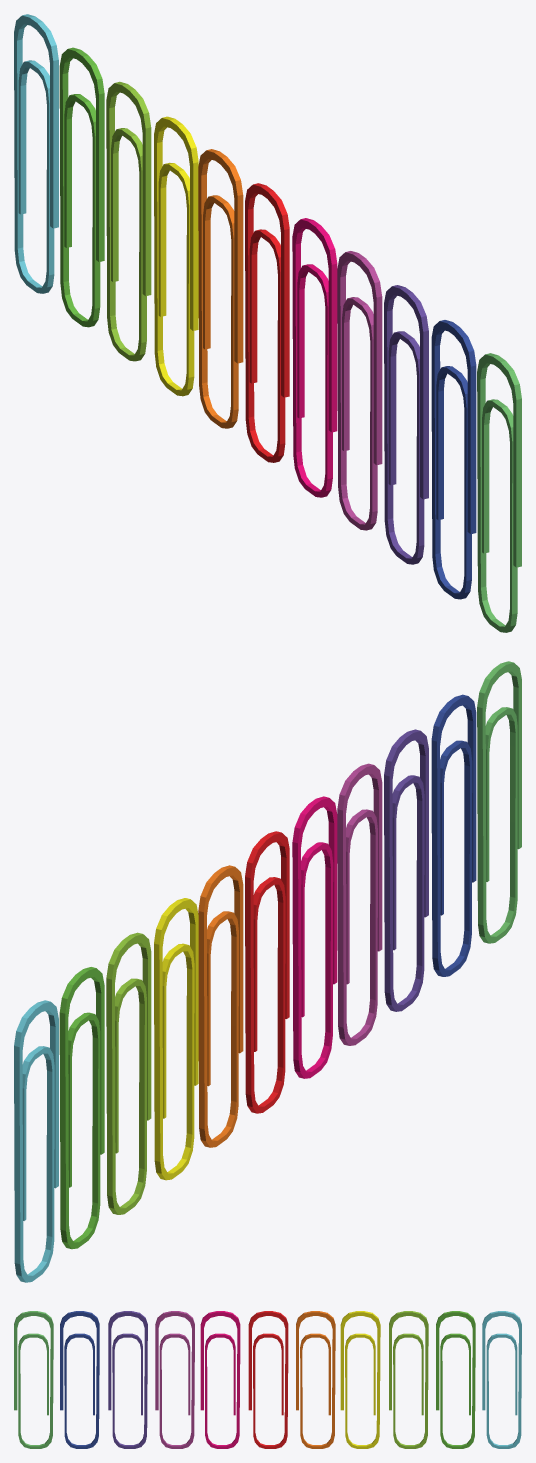
The model's file is paper_clip_collection_.glb_free_low_poly.glb.
3 views of the same model, one above another, from view 1: azimuth 30°, elevation 25°; view 2: azimuth 150°, elevation 25°; view 3: azimuth 270°, elevation 25° (orthographic). The views are drawn at different scales.
Visible parts, largest first — view 1: Plane_0; view 2: Plane_0; view 3: Plane_0.
Boxes of the visible parts, x1,y1,x2,y2 form: Plane_0: [14, 14, 521, 632]; Plane_0: [14, 661, 521, 1282]; Plane_0: [14, 1311, 521, 1448].
Size of what is drawn, in the model's own units: 0.4241 by 19.58 by 66.04.
Materials: 1 (1 with a texture image).
